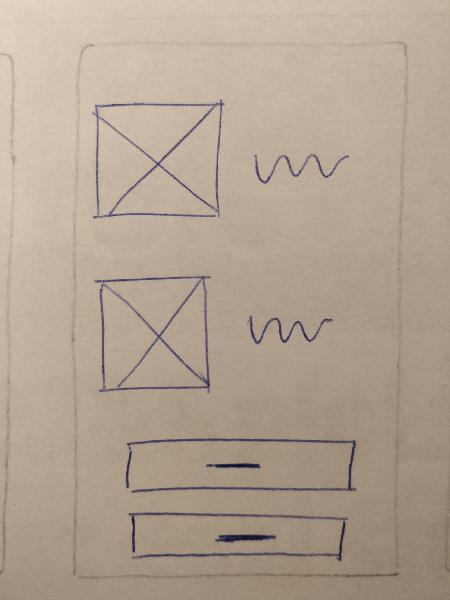button: (114, 431, 365, 501), (122, 507, 357, 565)
image: (87, 91, 231, 230), (85, 268, 219, 397)
text: (245, 141, 352, 191), (243, 306, 341, 351)
